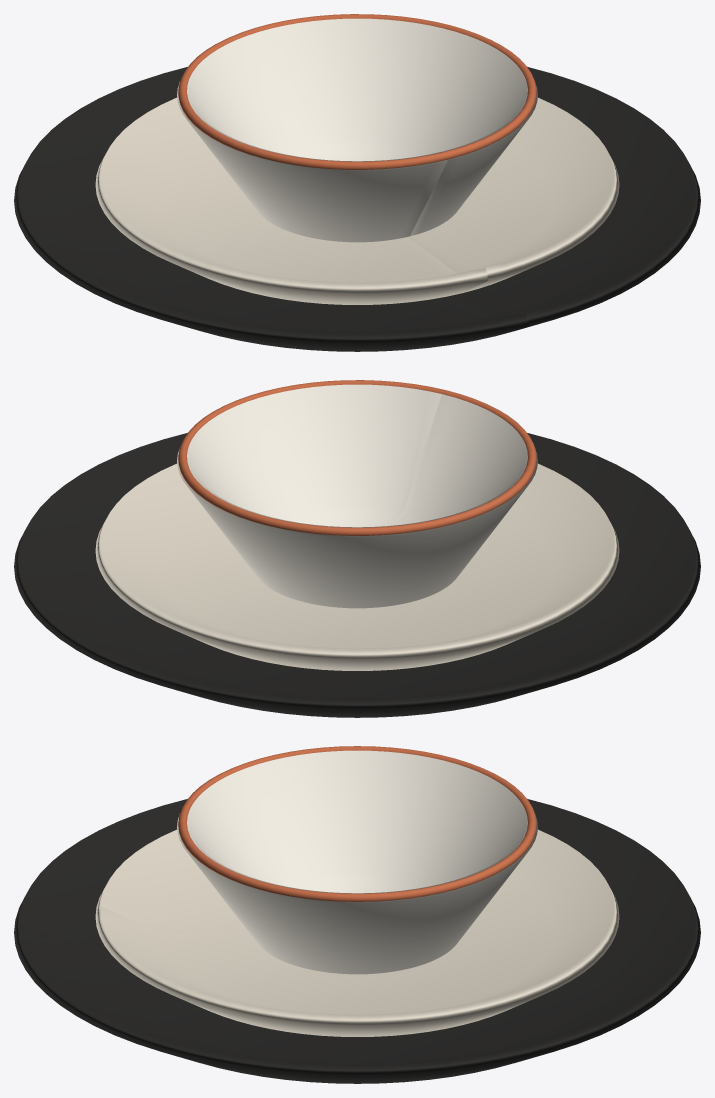
File: dinner_set.glb
3 views of the same model, one above another, from view 1: azimuth 30°, elevation 25°; view 2: azimuth 150°, elevation 25°; view 3: azimuth 270°, elevation 25° (orthographic).
Size of the model in its own units: 2.36 by 0.556 by 2.36.
